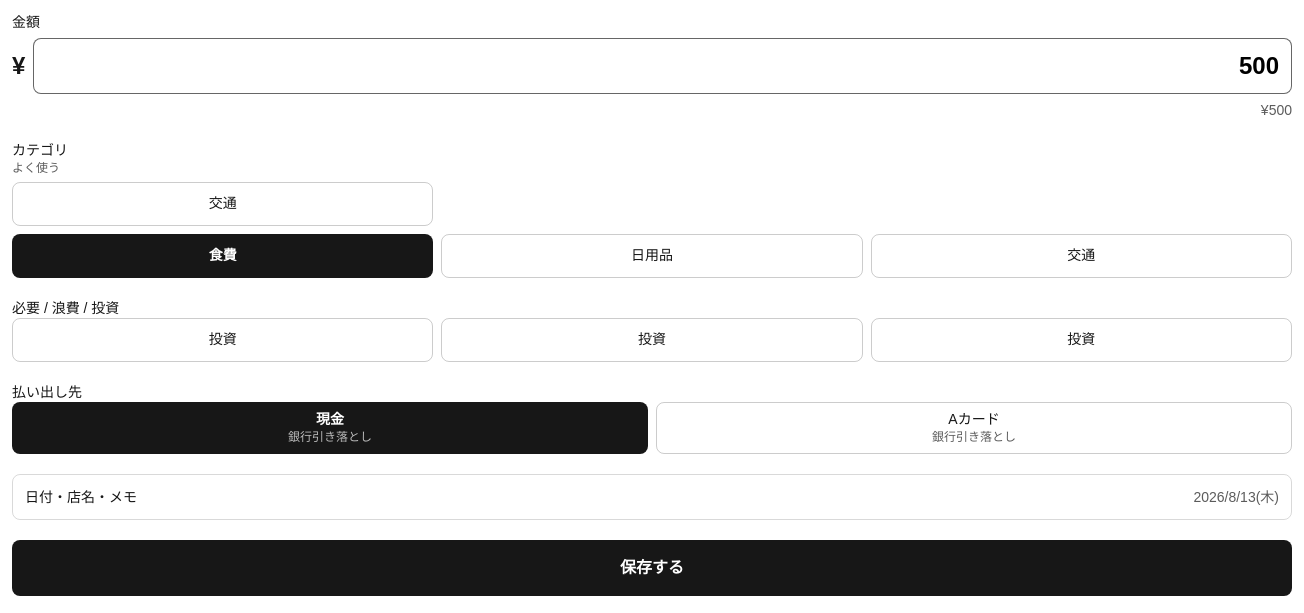
カテゴリのクイック選択 › クイック選択を押すと通常のカテゴリ選択（ラジオ）が切り替わる
Expected: the radio button labelled "交通" is not checked, x1=871 y1=234 x2=1292 y2=278
Click the button "交通".
click(223, 204)  # box x1=12 y1=182 x2=433 y2=226
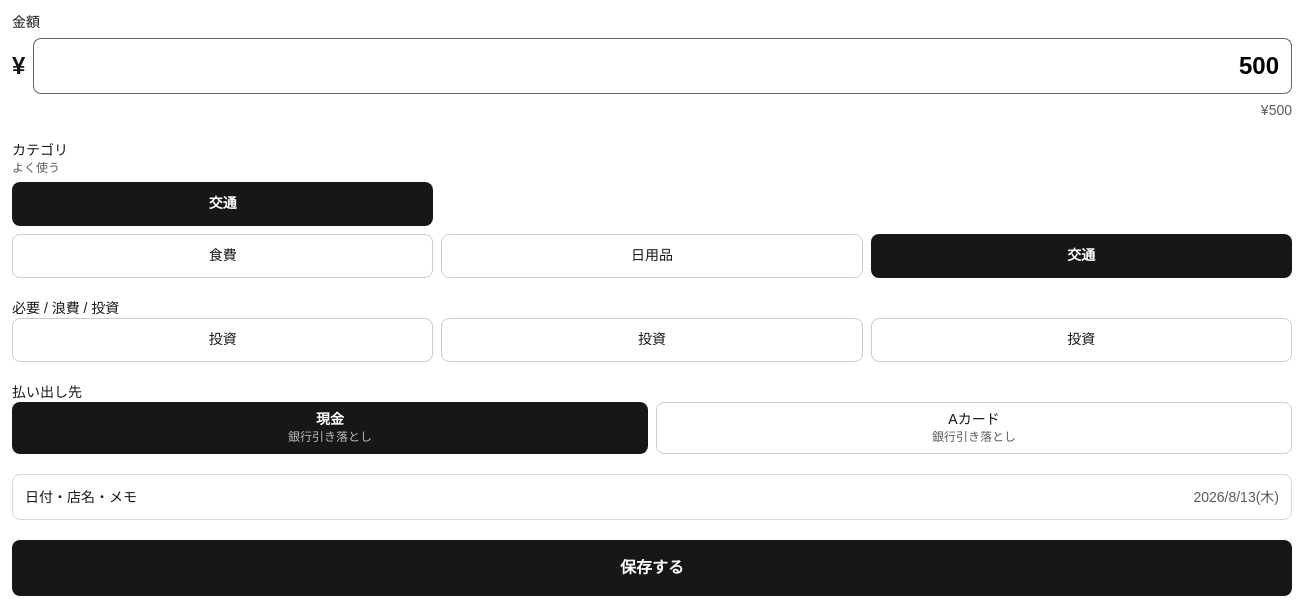
Expected: the radio button labelled "交通" is checked, x1=871 y1=234 x2=1292 y2=278
Expected: the radio button labelled "食費" is not checked, x1=12 y1=234 x2=433 y2=278
